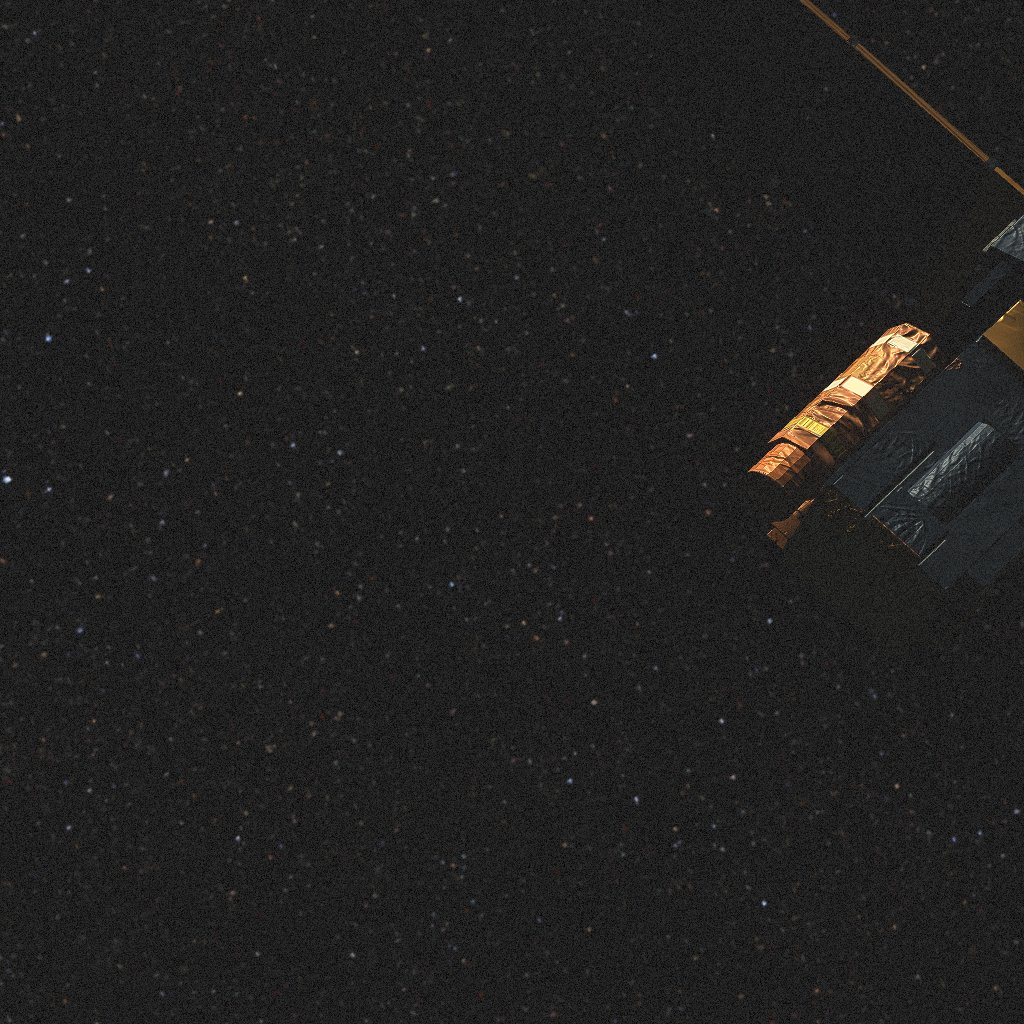soho: (644, 0, 1024, 674)
